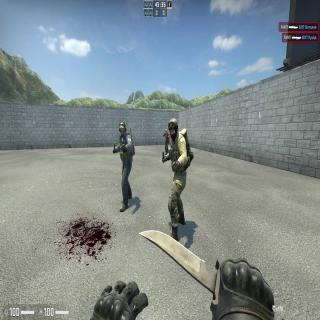CT-Body: (165, 119, 188, 237), (119, 121, 133, 210)
CT-Head: (168, 118, 178, 137), (119, 121, 126, 137)
T-Body: (164, 129, 170, 154)
T-Head: (165, 128, 167, 134)
